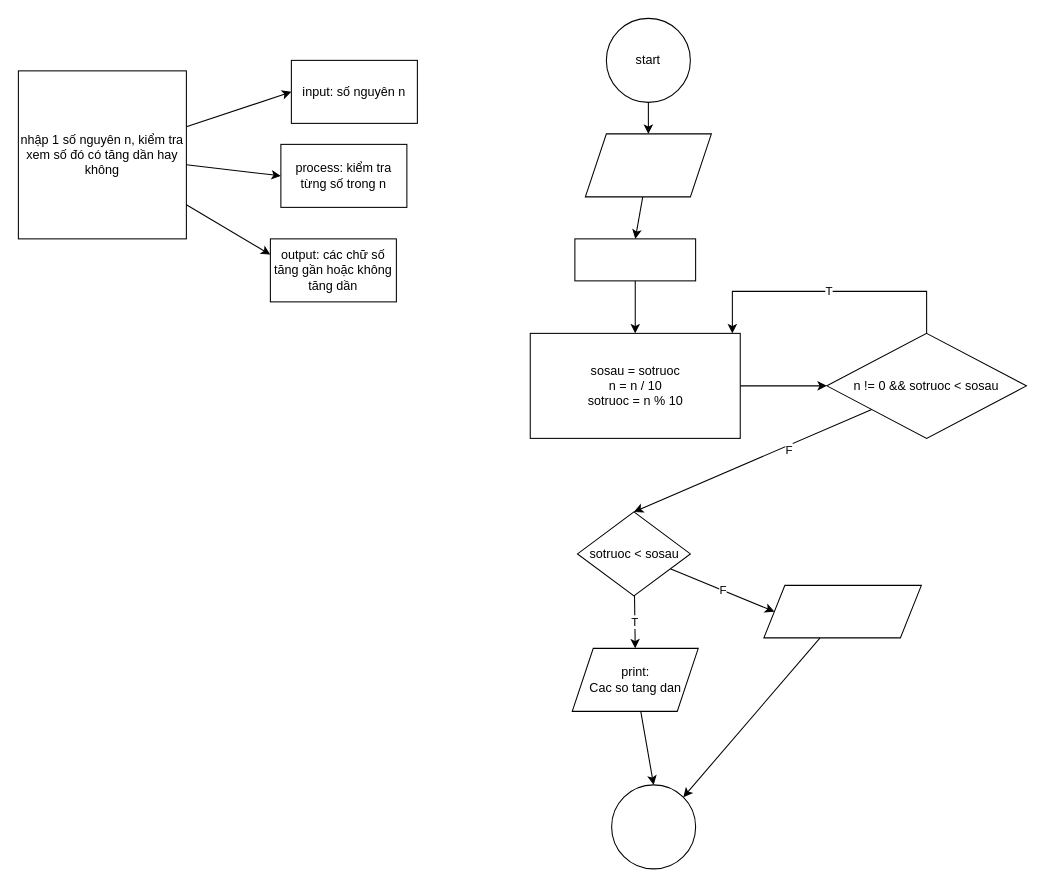
Some shapes in this 1045 by 887 pixel diagram are drawn without their labels. Each missing label, with the centre of its shape:
"end" belongs at point (653, 826).
"input: n" belongs at point (647, 165).
"print: Cac so ko tang dan" belongs at point (842, 611).
"sotruoc = n % 10" belongs at point (635, 259).
